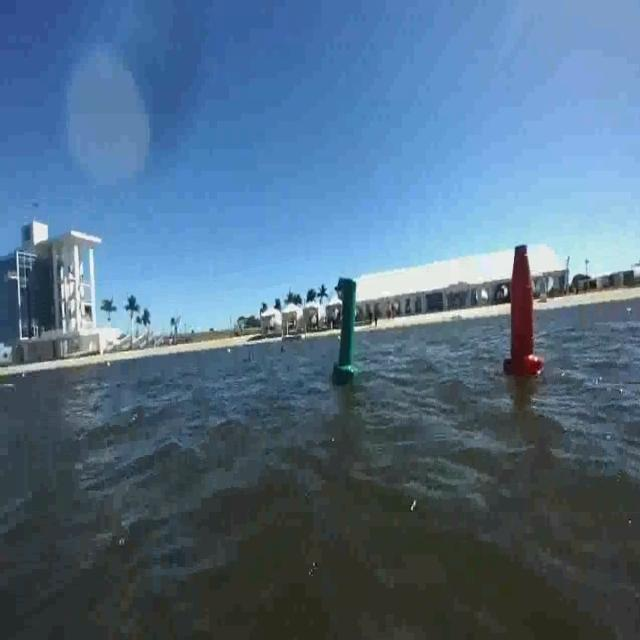green-column-buoy: (336, 277, 362, 382)
red-column-buoy: (502, 242, 542, 376)
